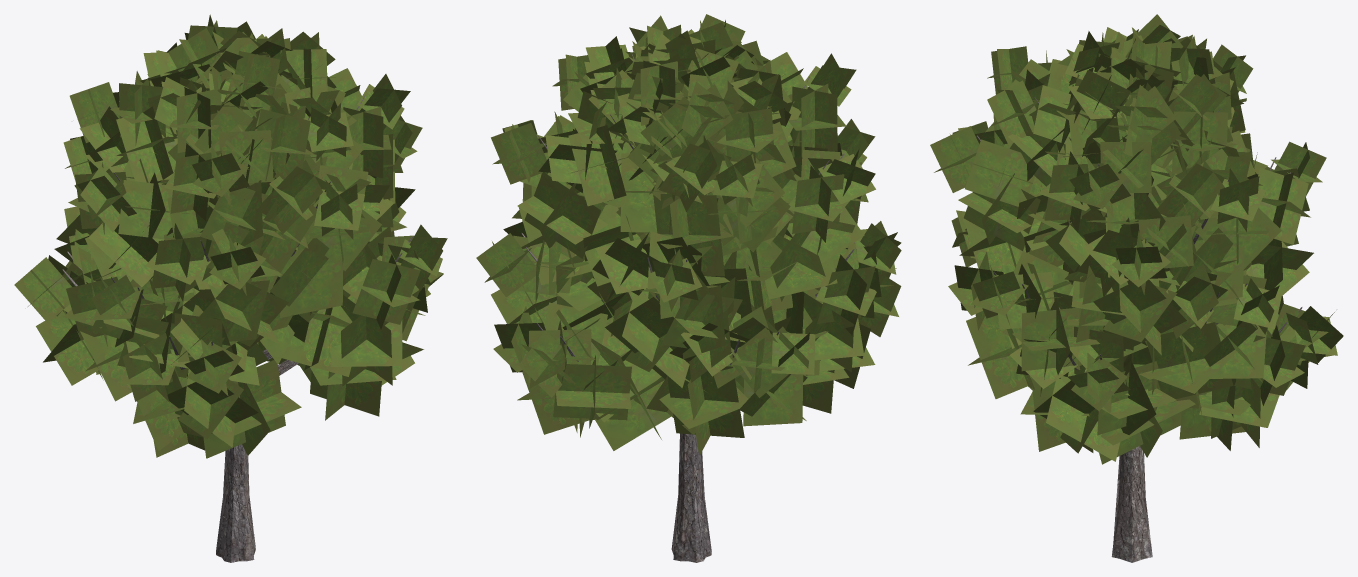
Rendered from tree3.glb.
3 views of the same model, side by side, from view 1: azimuth 30°, elevation 25°; view 2: azimuth 150°, elevation 25°; view 3: azimuth 270°, elevation 25° (orthographic).
Parts seen in each view (by area): view 1: SM_Tree_03; view 2: SM_Tree_03; view 3: SM_Tree_03.
Part boxes in pixels (x1,y1,x2,y2): SM_Tree_03: (14,14,447,562); SM_Tree_03: (476,14,901,562); SM_Tree_03: (930,14,1343,562).
Bounding box in the file's own units: 0.3992 × 0.5459 × 0.3915.
Materials: 2 (2 with a texture image).
